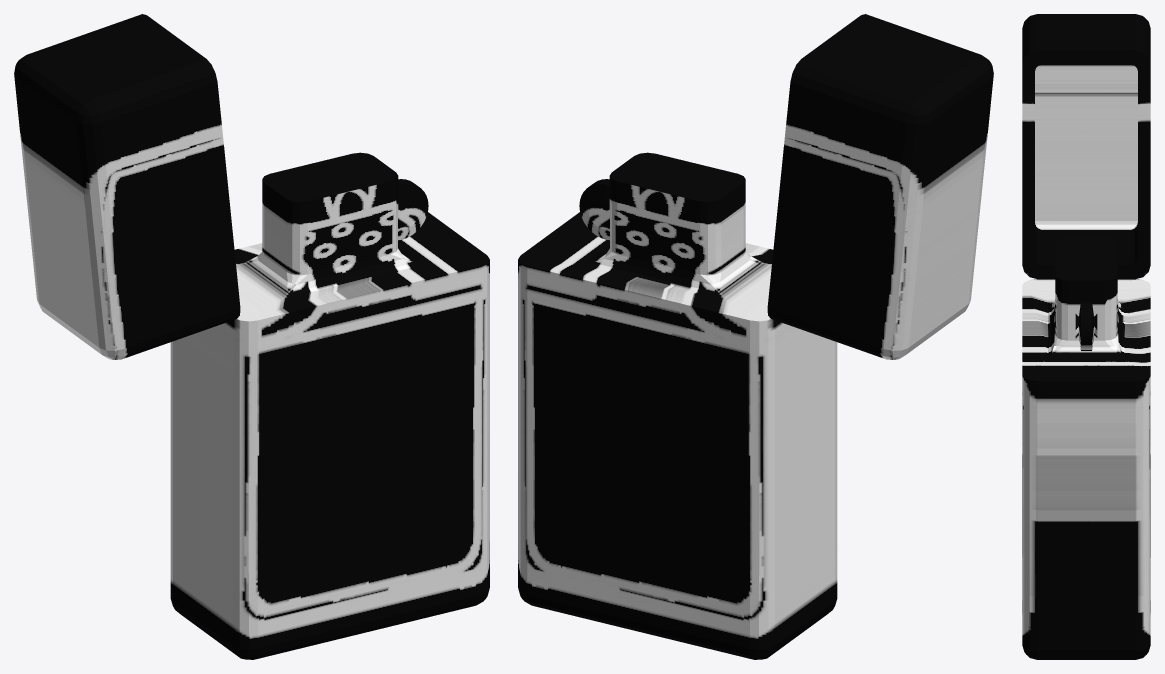
The model's file is Lighter.fbx.
3 renders of one model, left to right at view 1: azimuth 30°, elevation 25°; view 2: azimuth 150°, elevation 25°; view 3: azimuth 270°, elevation 25°, orthographic. The views are drawn at different scales.
Parts seen in each view (by area): view 1: Lighter; view 2: Lighter; view 3: Lighter.
Part boxes in pixels (<box>): Lighter: <box>14,14,489,659</box>; Lighter: <box>518,14,993,659</box>; Lighter: <box>1022,14,1150,659</box>.
Bounding box in the file's own units: 8.37 × 11.87 × 2.76.
